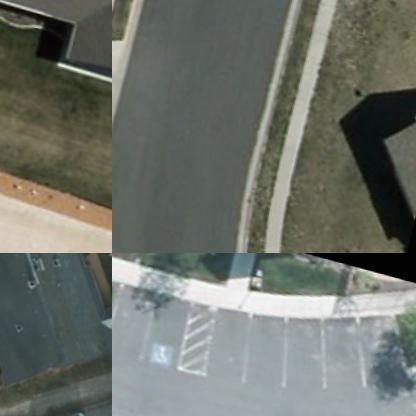car: (91, 253, 111, 289), (26, 405, 87, 415)
